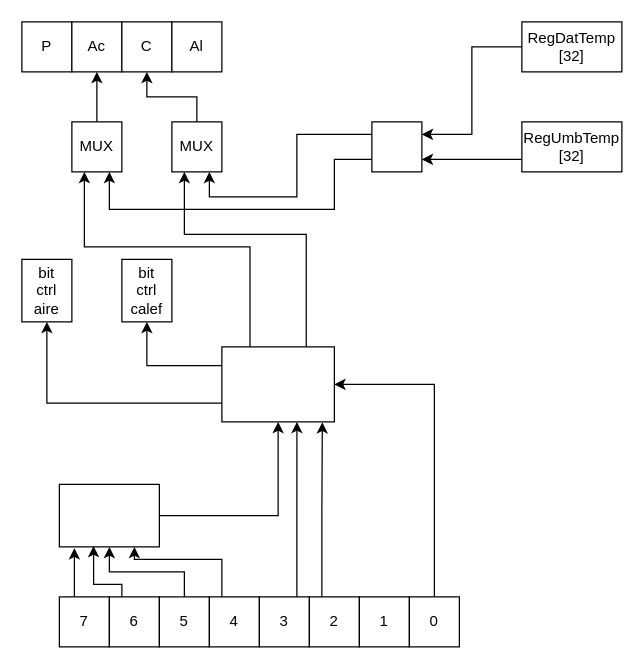
This 644x669 diagram has some shape labels left out. Each missing label, with the centre of its shape:
"CMP" goes at point (396, 146).
"decodMsg" goes at point (108, 515).
"UF_Ambiente" goes at point (277, 384).
